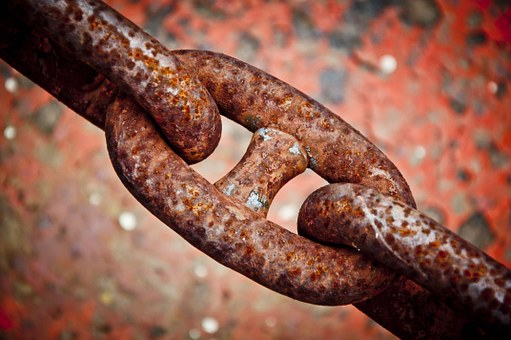rust: (92, 28, 406, 306), (415, 217, 508, 324), (6, 3, 91, 116)
